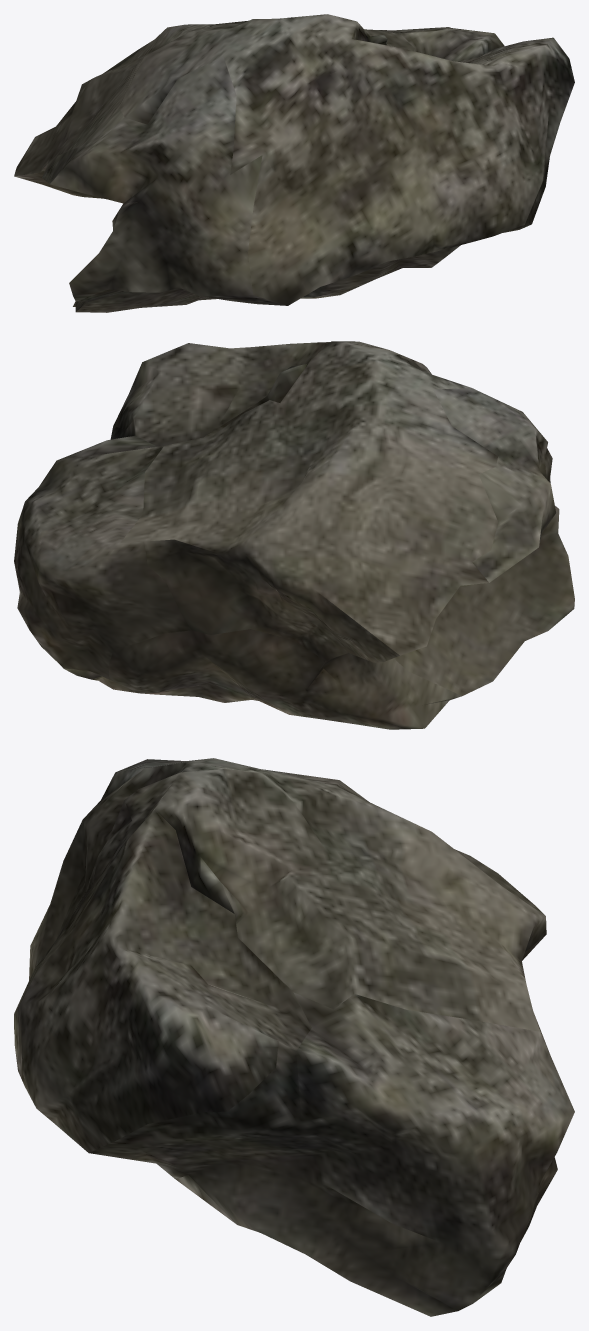
Rendered from rock_b-IFfTEalT.glb.
3 renders of one model, top to bottom at view 1: azimuth 30°, elevation 25°; view 2: azimuth 150°, elevation 25°; view 3: azimuth 270°, elevation 25°, orthographic. The views are drawn at different scales.
Visible parts, largest first — view 1: rock_b; view 2: rock_b; view 3: rock_b.
Boxes of the visible parts, x1,y1,x2,y2 form: rock_b: (14,14,574,312); rock_b: (14,341,574,729); rock_b: (14,758,574,1316).
Size of the model in its own units: 1.5 by 1 by 1.17.
1 material, 1 textured.
